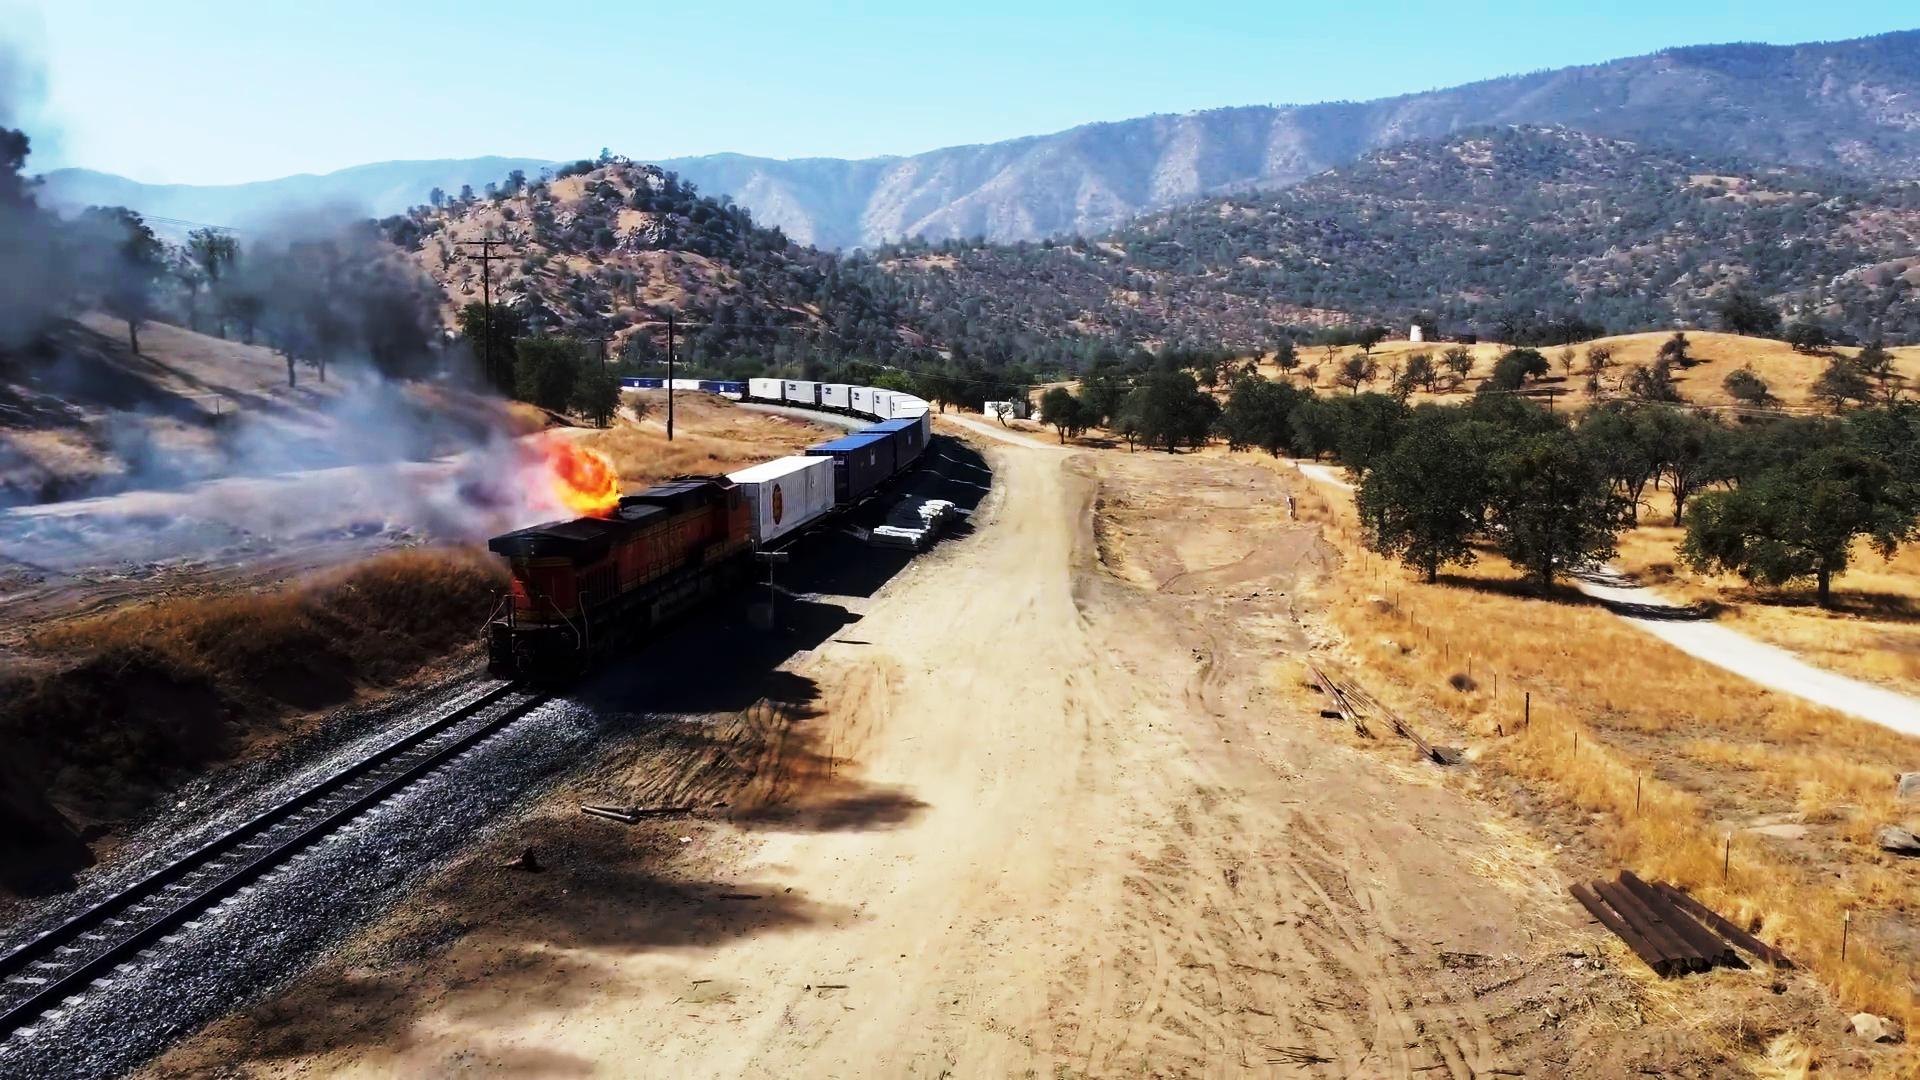fire: (543, 433, 644, 525)
